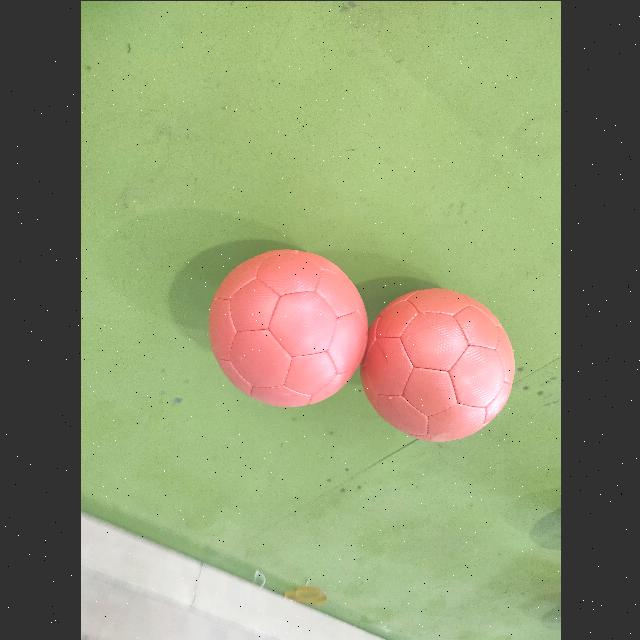R: (208, 249, 366, 405), (360, 288, 512, 440)
